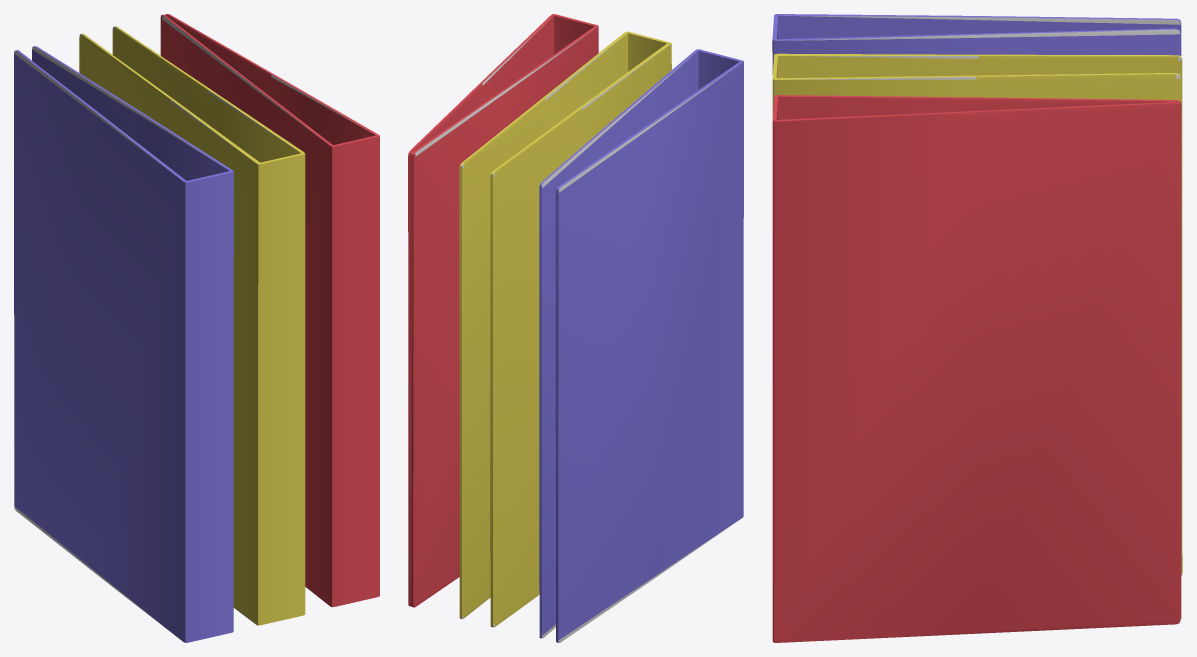
Rendered from 바인더.fbx.
3 renders of one model, left to right at view 1: azimuth 30°, elevation 25°; view 2: azimuth 150°, elevation 25°; view 3: azimuth 270°, elevation 25°, orthographic. The views are drawn at different scales.
Visible parts, largest first — view 1: folder_01, folder_02, folder_03; view 2: folder_01, folder_02, folder_03; view 3: folder_03, folder_02, folder_01.
Boxes of the visible parts, x1=… form: folder_01: x1=14, y1=46, x2=233, y2=642; folder_02: x1=79, y1=26, x2=305, y2=625; folder_03: x1=160, y1=14, x2=379, y2=607; folder_01: x1=539, y1=49, x2=743, y2=642; folder_02: x1=459, y1=31, x2=671, y2=627; folder_03: x1=408, y1=14, x2=598, y2=607; folder_03: x1=772, y1=95, x2=1181, y2=642; folder_02: x1=772, y1=53, x2=1182, y2=576; folder_01: x1=772, y1=14, x2=1181, y2=74.
Bounding box in the file's own units: 1505 × 3409 × 2425.
